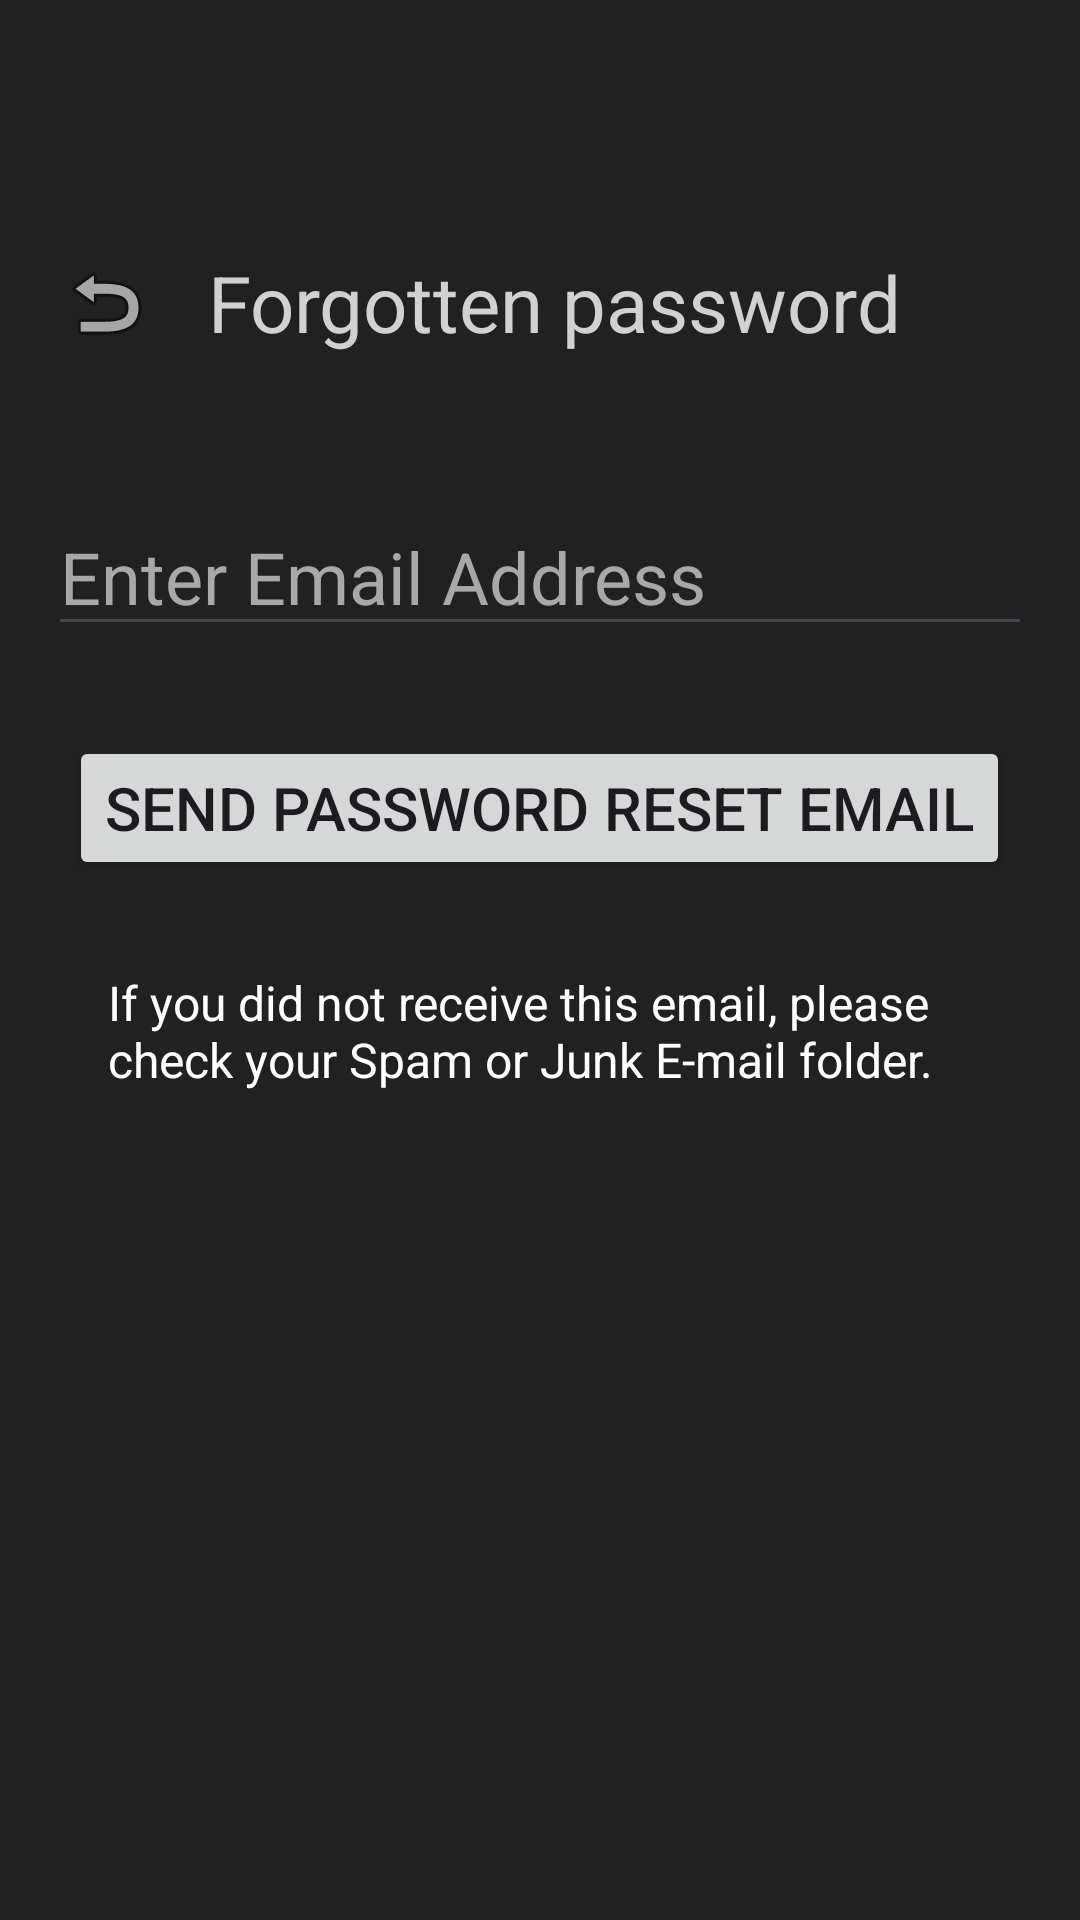

Locate icon controls on the screen. Image size 1080*1920, boxes as Rect(x1, y1, x2, y2).
revert: Rect(76, 275, 139, 332)
